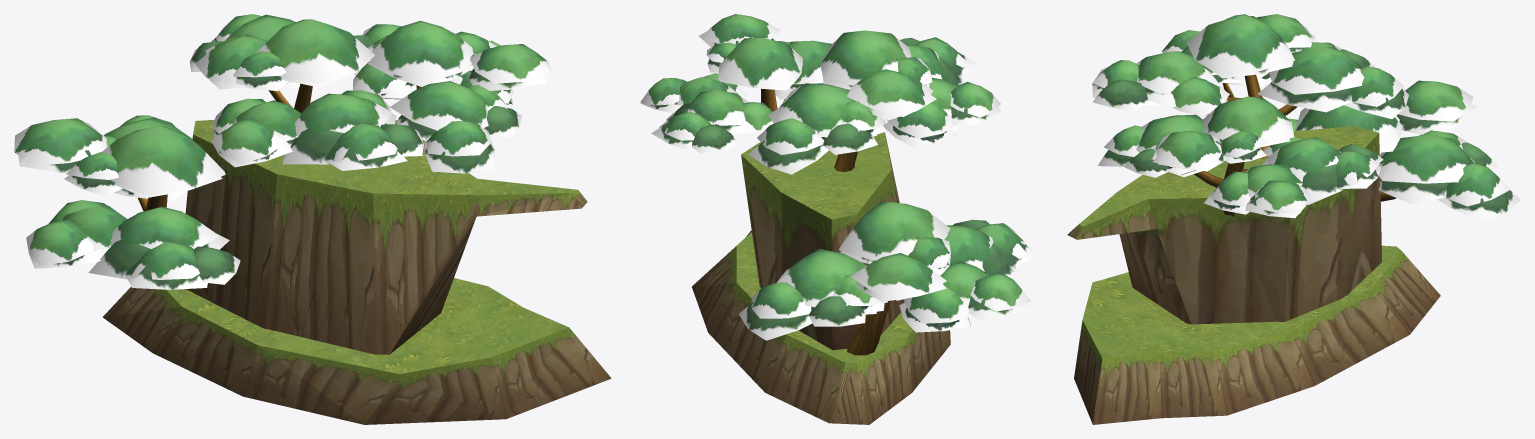
File: gonghui_daoyu_02 #961716.fbx
3 views of the same model, side by side, from view 1: azimuth 30°, elevation 25°; view 2: azimuth 150°, elevation 25°; view 3: azimuth 270°, elevation 25° (orthographic). The views are drawn at different scales.
Visible parts, largest first — view 1: gonghui_daoyu_02; view 2: gonghui_daoyu_02; view 3: gonghui_daoyu_02.
Part boxes in pixels (x1,y1,x2,y2): gonghui_daoyu_02: [14, 14, 611, 424]; gonghui_daoyu_02: [640, 14, 1038, 424]; gonghui_daoyu_02: [1067, 14, 1520, 424].
Size of the model in its own units: 24.97 by 18.58 by 24.08.
